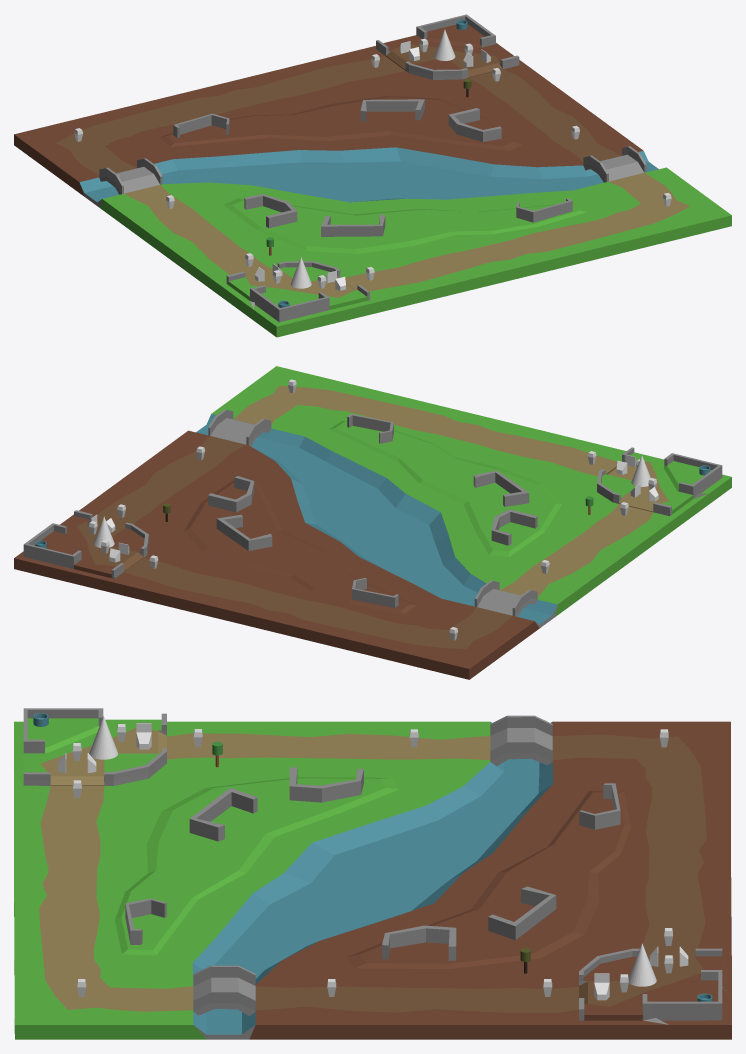
Rendered from ED4-Map.fbx.
3 views of the same model, one above another, from view 1: azimuth 30°, elevation 25°; view 2: azimuth 150°, elevation 25°; view 3: azimuth 270°, elevation 25° (orthographic). The views are drawn at different scales.
Parts seen in each view (by area): view 1: map, path, river; view 2: map, path, river; view 3: map, path, river, radient ancient, dire ancient.
Part boxes in pixels (left/top/right/bottom): map: left=14, top=14, right=731, bottom=337; path: left=56, top=44, right=689, bottom=297; river: left=79, top=147, right=658, bottom=202; map: left=14, top=366, right=731, bottom=679; path: left=77, top=385, right=668, bottom=649; river: left=196, top=414, right=557, bottom=624; map: left=14, top=708, right=731, bottom=1039; path: left=39, top=727, right=706, bottom=1012; river: left=192, top=722, right=553, bottom=1034; radient ancient: left=89, top=716, right=118, bottom=759; dire ancient: left=628, top=943, right=656, bottom=986.
Bounding box in the file's own units: 10003 × 902 × 10006.
